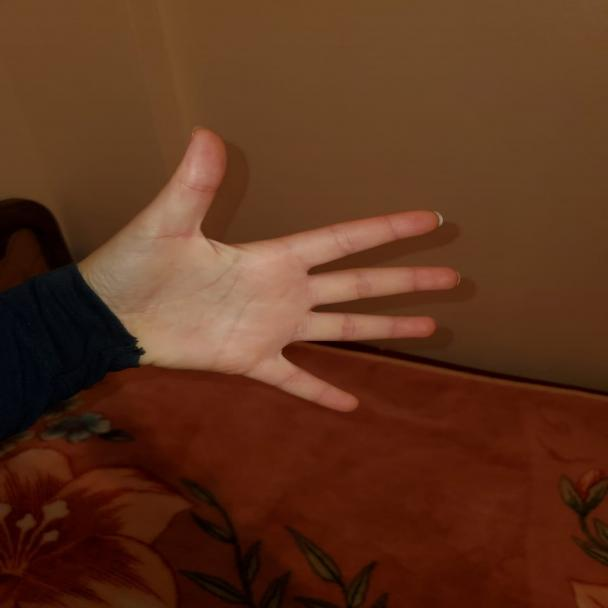five: (104, 128, 472, 421)
